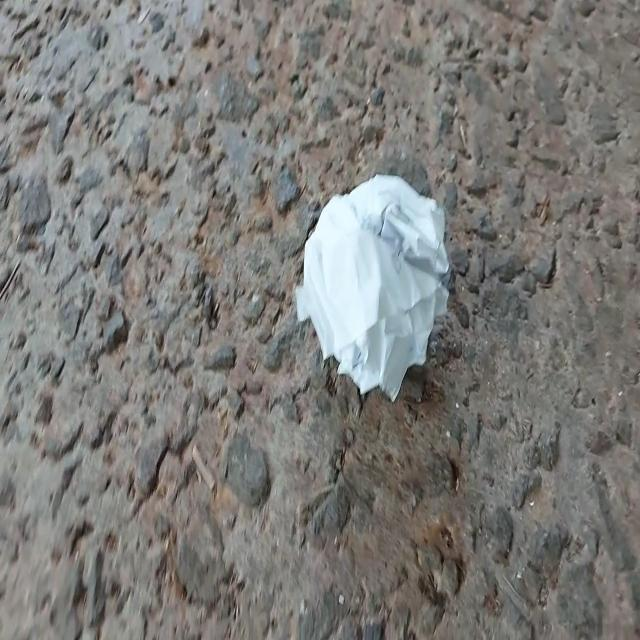Paper: (276, 157, 472, 411)
